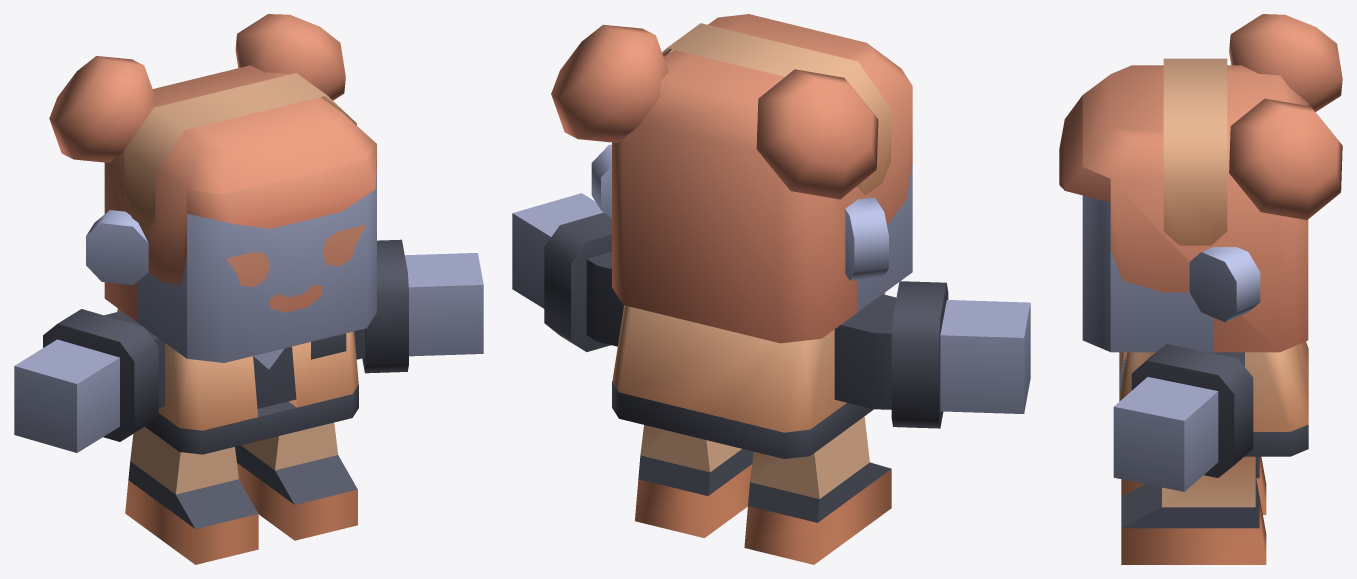
Rendered from character-employee.obj.
3 views of the same model, side by side, from view 1: azimuth 30°, elevation 25°; view 2: azimuth 150°, elevation 25°; view 3: azimuth 270°, elevation 25° (orthographic). The views are drawn at different scales.
Visible parts, largest first — view 1: head-mesh, body-mesh; view 2: head-mesh, body-mesh; view 3: head-mesh, body-mesh.
Boxes of the visible parts, left/top/right/bottom form: head-mesh: left=49, top=14, right=376, bottom=362; body-mesh: left=14, top=239, right=483, bottom=564; head-mesh: left=551, top=14, right=912, bottom=343; body-mesh: left=512, top=193, right=1030, bottom=564; head-mesh: left=1059, top=14, right=1342, bottom=352; body-mesh: left=1113, top=341, right=1308, bottom=564.
Bounding box in the file's own units: 0.7806 × 0.7234 × 0.4014.
